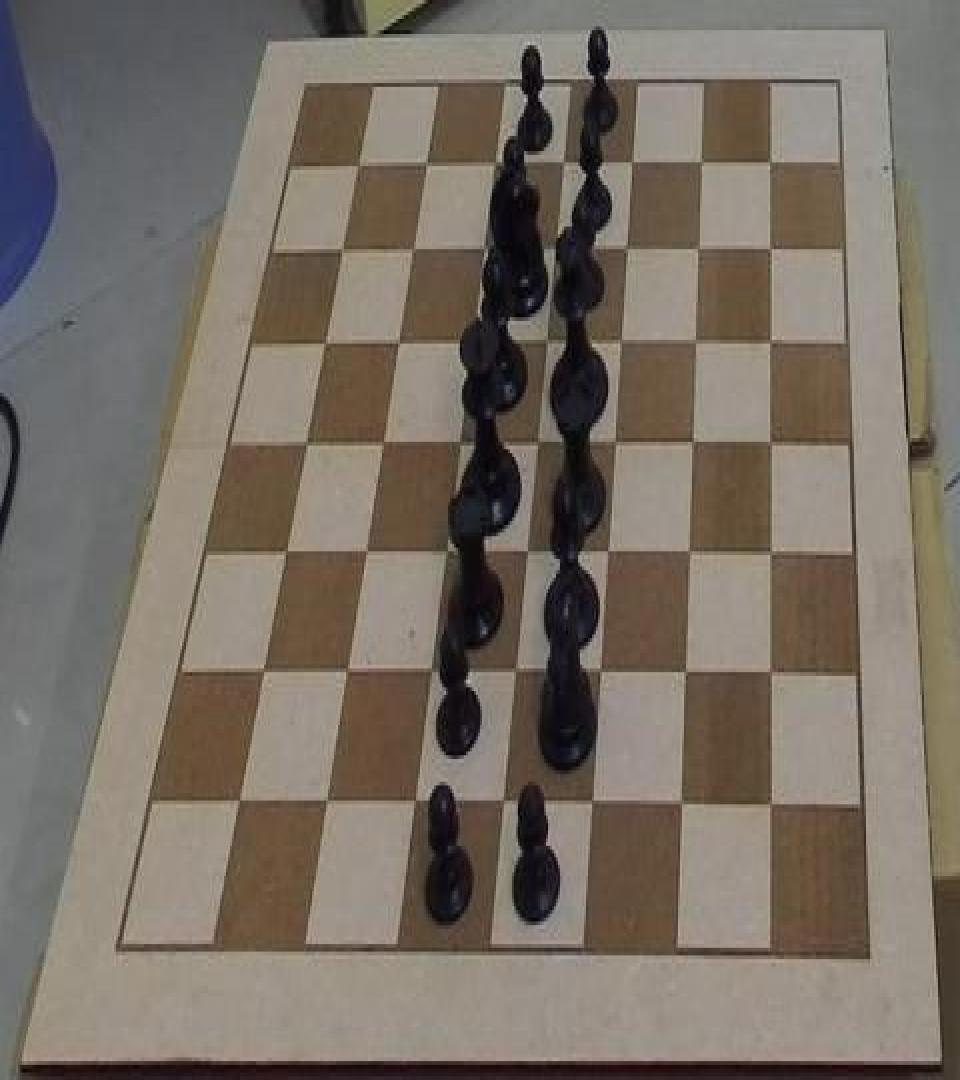xcorner: (762, 139, 782, 178), (692, 139, 712, 178), (622, 142, 642, 180), (552, 142, 572, 180), (483, 142, 503, 180), (414, 144, 434, 182), (346, 144, 366, 182), (762, 226, 782, 264), (689, 226, 709, 264), (617, 228, 637, 266), (545, 228, 565, 266), (473, 228, 493, 266), (401, 228, 421, 266), (330, 230, 350, 268), (763, 321, 783, 359), (687, 321, 707, 359), (611, 321, 631, 359), (536, 321, 556, 359), (462, 322, 482, 360), (387, 322, 407, 360), (313, 322, 333, 360), (763, 423, 783, 461), (684, 423, 704, 461), (605, 423, 625, 461), (527, 423, 547, 461), (450, 423, 470, 461), (372, 423, 392, 461), (295, 423, 315, 461), (763, 534, 783, 572), (681, 534, 701, 572), (599, 534, 619, 572), (518, 532, 538, 570), (436, 532, 456, 570), (356, 532, 376, 570), (275, 532, 295, 570), (764, 655, 784, 693), (678, 655, 698, 693), (592, 655, 612, 693), (507, 653, 527, 691), (422, 653, 442, 691), (338, 653, 358, 691), (254, 652, 274, 690), (765, 789, 785, 827), (674, 787, 694, 825), (584, 787, 604, 825), (495, 786, 515, 824), (406, 784, 426, 822), (318, 784, 338, 822), (230, 782, 250, 820)
